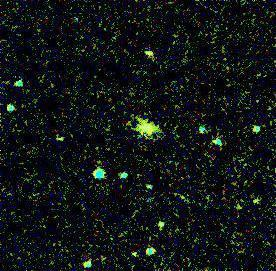star: (117, 232, 147, 262)
